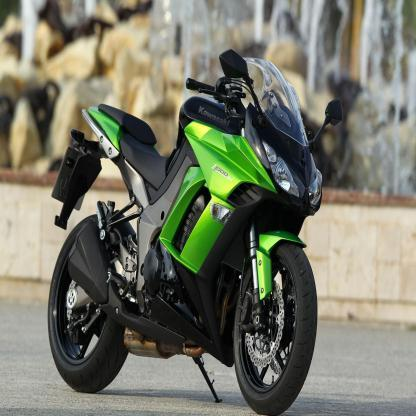Motorcycle: (45, 41, 346, 416)
